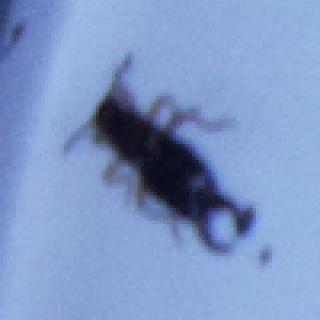earwig: (63, 51, 254, 260)
